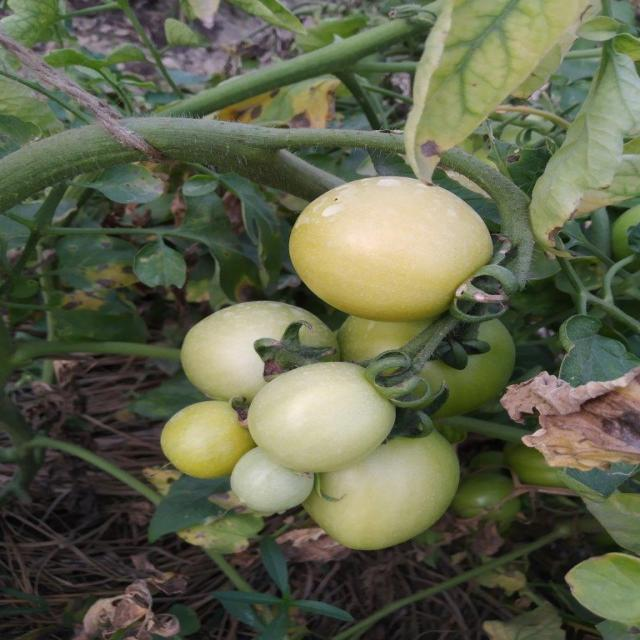Unripe: (286, 173, 496, 324), (244, 352, 432, 469)
